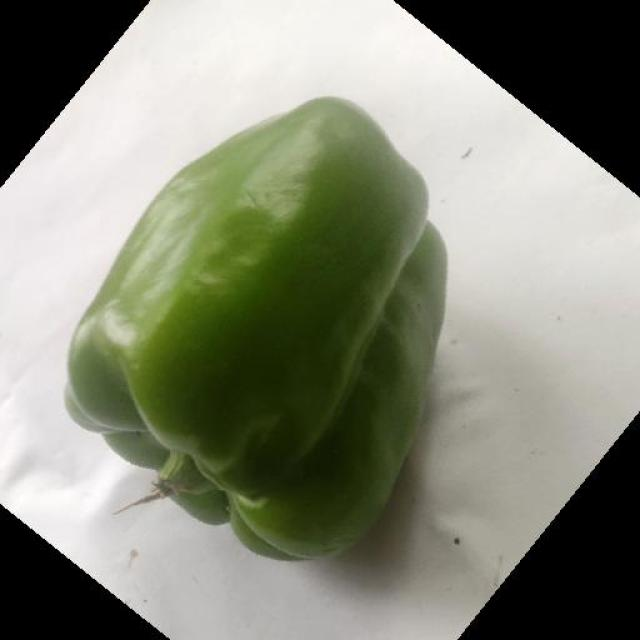Fresh_Capsicum: (107, 93, 454, 548)
